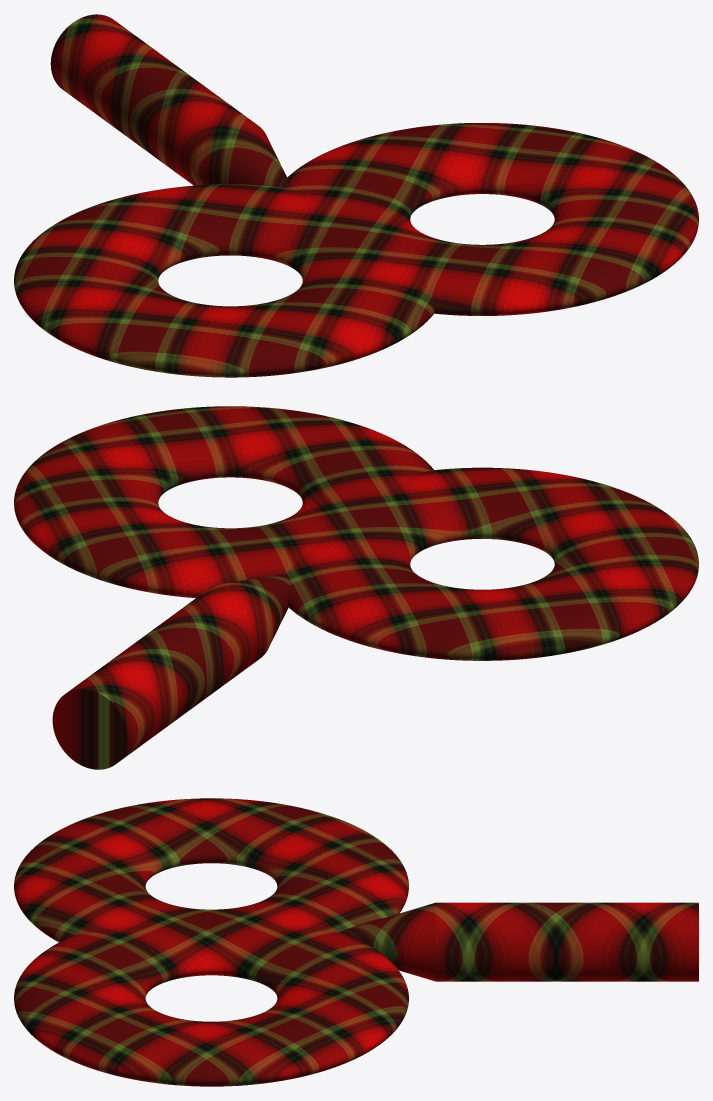
The model's file is the_key.obj.
The picture shows the model from 3 angles, top to bottom: view 1: azimuth 30°, elevation 25°; view 2: azimuth 150°, elevation 25°; view 3: azimuth 270°, elevation 25°; orthographic projection. The views are drawn at different scales.
Visible parts, largest first — view 1: Torus; view 2: Torus; view 3: Torus.
Part boxes in pixels (x1,y1,x2,y2): Torus: (14,14,698,377); Torus: (14,406,698,769); Torus: (14,798,698,1086).
Bounding box in the file's own units: 5.01 × 0.6 × 5.2.
Materials: 1 (1 with a texture image).
